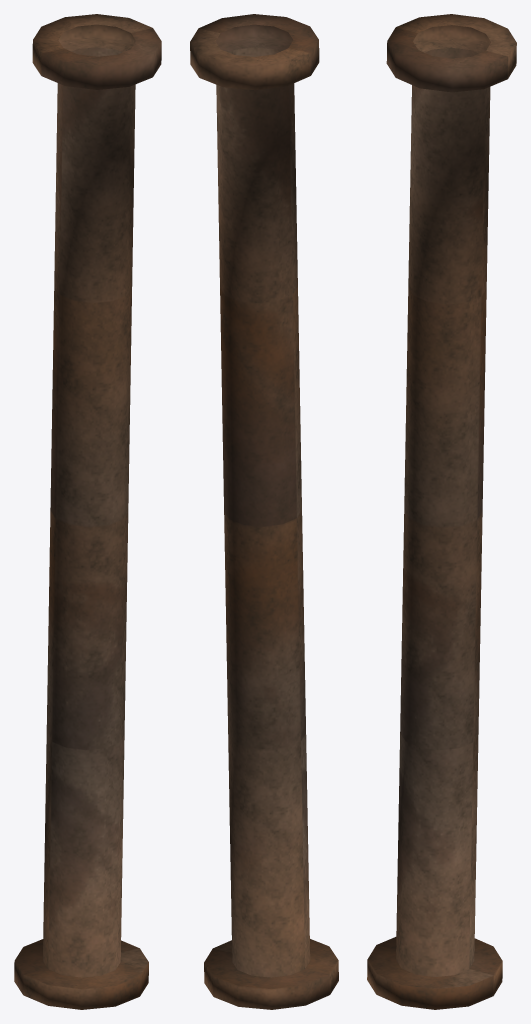
File: Pipe5.fbx
The picture shows the model from 3 angles, left to right: view 1: azimuth 30°, elevation 25°; view 2: azimuth 150°, elevation 25°; view 3: azimuth 330°, elevation 25°; orthographic projection.
Visible parts, largest first — view 1: Straightpipe; view 2: Straightpipe; view 3: Straightpipe.
Part boxes in pixels (<box>): Straightpipe: <box>14,14,161,1009</box>; Straightpipe: <box>190,14,338,1009</box>; Straightpipe: <box>367,14,516,1009</box>.
Size of the model in its own units: 166 by 1144 by 149.
1 material, 1 textured.
